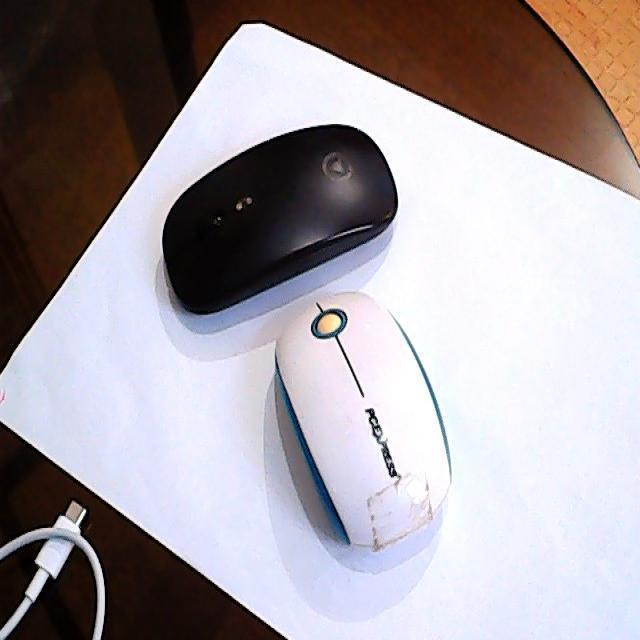Mouse: (273, 286, 457, 550), (163, 120, 400, 314)
